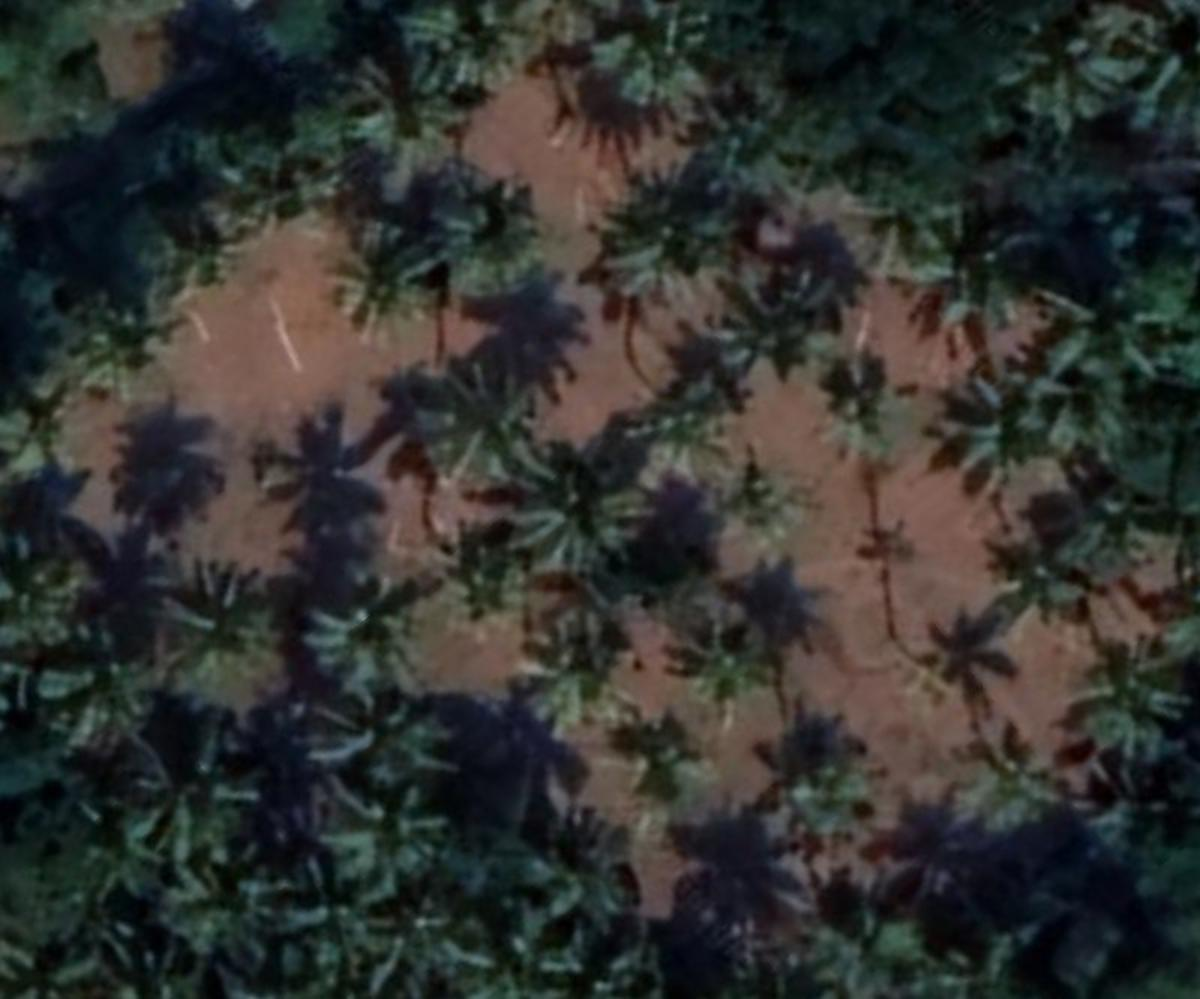coconut: (906, 195, 1044, 339), (1007, 12, 1156, 138), (123, 709, 259, 843), (785, 898, 957, 996), (742, 735, 886, 850), (325, 220, 459, 342), (562, 4, 709, 115), (301, 594, 444, 708), (331, 63, 467, 178), (696, 265, 825, 385), (432, 181, 559, 298), (1075, 639, 1195, 757), (423, 370, 541, 489), (940, 369, 1047, 496), (999, 528, 1119, 640), (300, 691, 444, 783), (507, 456, 635, 558), (528, 628, 640, 742), (147, 561, 256, 672), (664, 627, 793, 718), (327, 792, 441, 892), (598, 196, 723, 286), (612, 730, 732, 823), (820, 351, 906, 462), (964, 735, 1075, 820), (442, 528, 535, 624), (720, 457, 811, 544), (891, 658, 975, 721)
